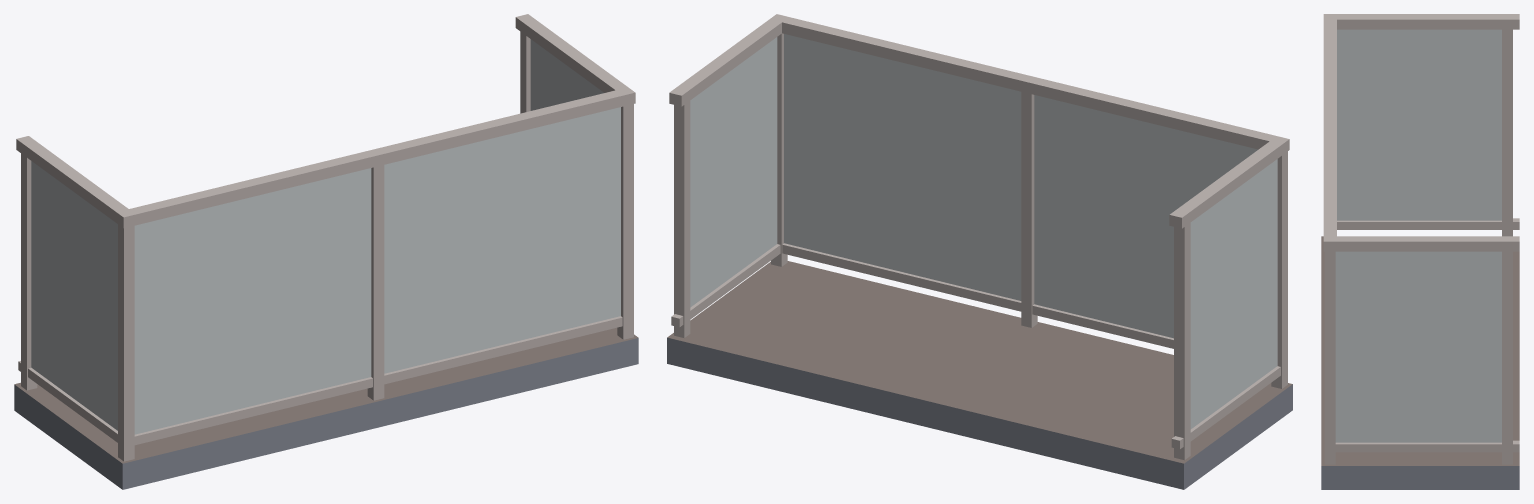
File: SM_Fixture_BalconyShort16520_AluPanel_01.gltf
3 views of the same model, side by side, from view 1: azimuth 30°, elevation 25°; view 2: azimuth 150°, elevation 25°; view 3: azimuth 270°, elevation 25° (orthographic). The views are drawn at different scales.
Visible parts, largest first — view 1: SM_Fixture_BalconyShort16520_AluPanel_01; view 2: SM_Fixture_BalconyShort16520_AluPanel_01; view 3: SM_Fixture_BalconyShort16520_AluPanel_01.
Part boxes in pixels (x1,y1,x2,y2): SM_Fixture_BalconyShort16520_AluPanel_01: [14, 14, 638, 489]; SM_Fixture_BalconyShort16520_AluPanel_01: [667, 14, 1292, 489]; SM_Fixture_BalconyShort16520_AluPanel_01: [1321, 14, 1519, 489].
Bounding box in the file's own units: 2.47 × 1.24 × 0.9.
1 material, 1 textured.
